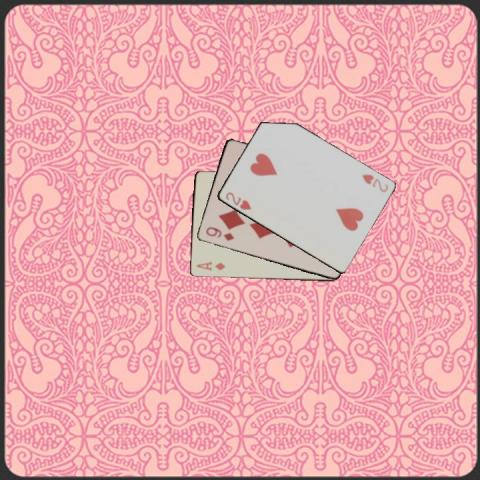2h: (222, 189, 253, 211), (359, 172, 389, 193)
9d: (203, 224, 235, 243)
Ad: (193, 258, 227, 272)
